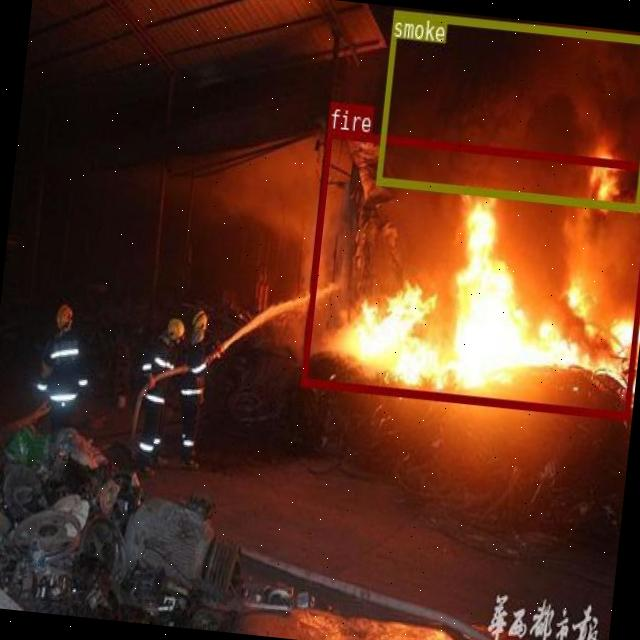fire: (301, 127, 640, 418)
smoke: (374, 9, 640, 211)
